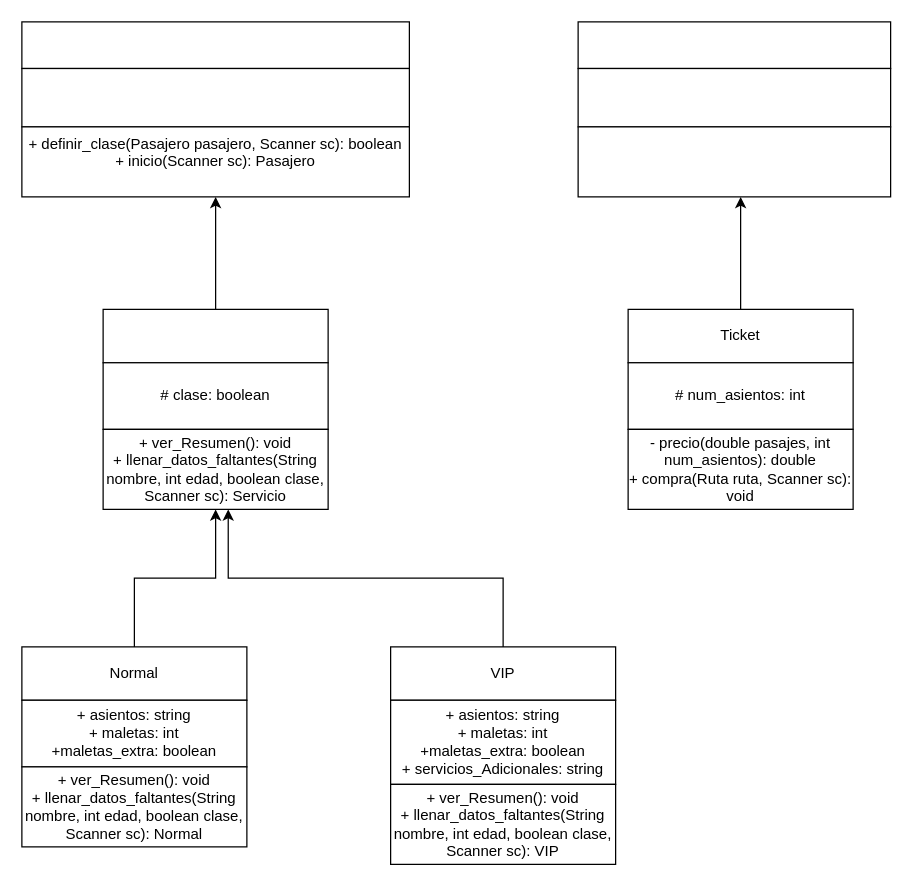
This 913x886 diagram has some shape labels left out. The centre of each missing label's shape, as x and y in pixels:
"+ inicializacion_de_ruta(Scanner sc): Ruta + ver_resumen_ruta(): void" goes at (734,161).
"- nombre: String - edad: int" goes at (215,97).
"- ruta: int - pasaje: double - sentido_de_viaje: boolean" goes at (734,97).
"Pasajero" goes at (215,44).
"Ruta" goes at (734,44).
"Servicio" goes at (215,335).
